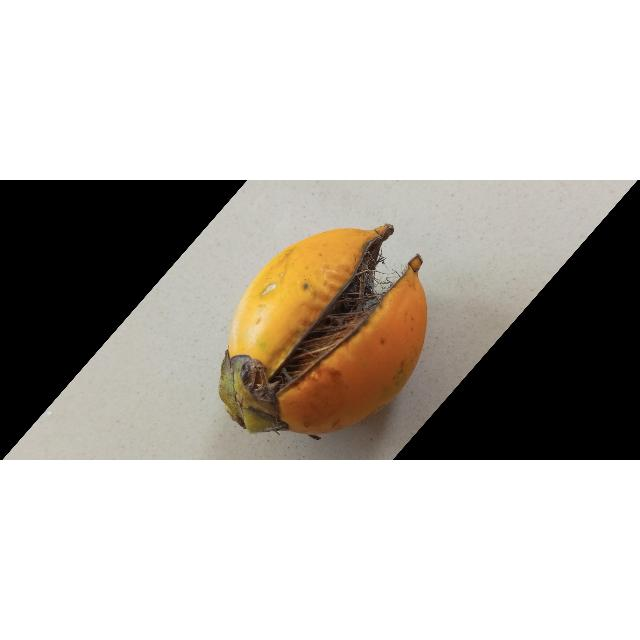damaged: (219, 224, 427, 440)
